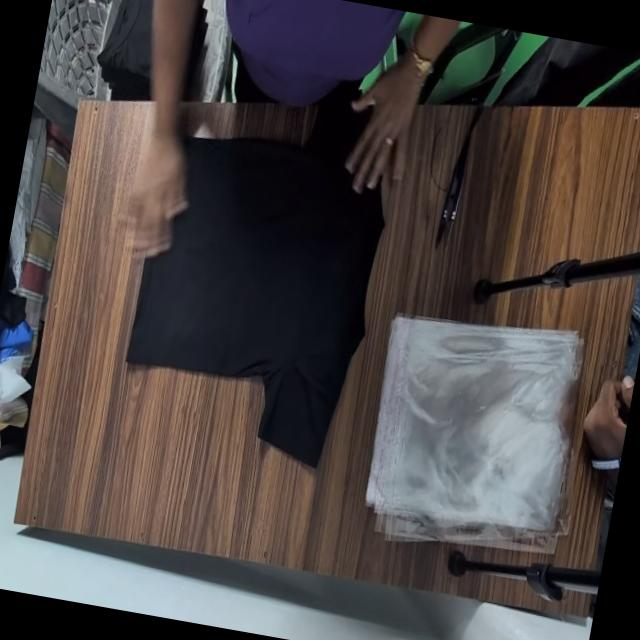new-garment: (127, 138, 383, 465)
